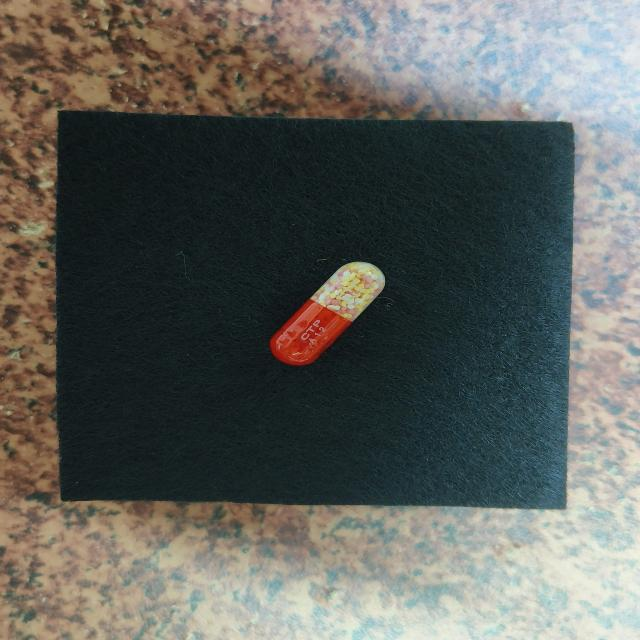Intact Capsule: (270, 262, 385, 365)
